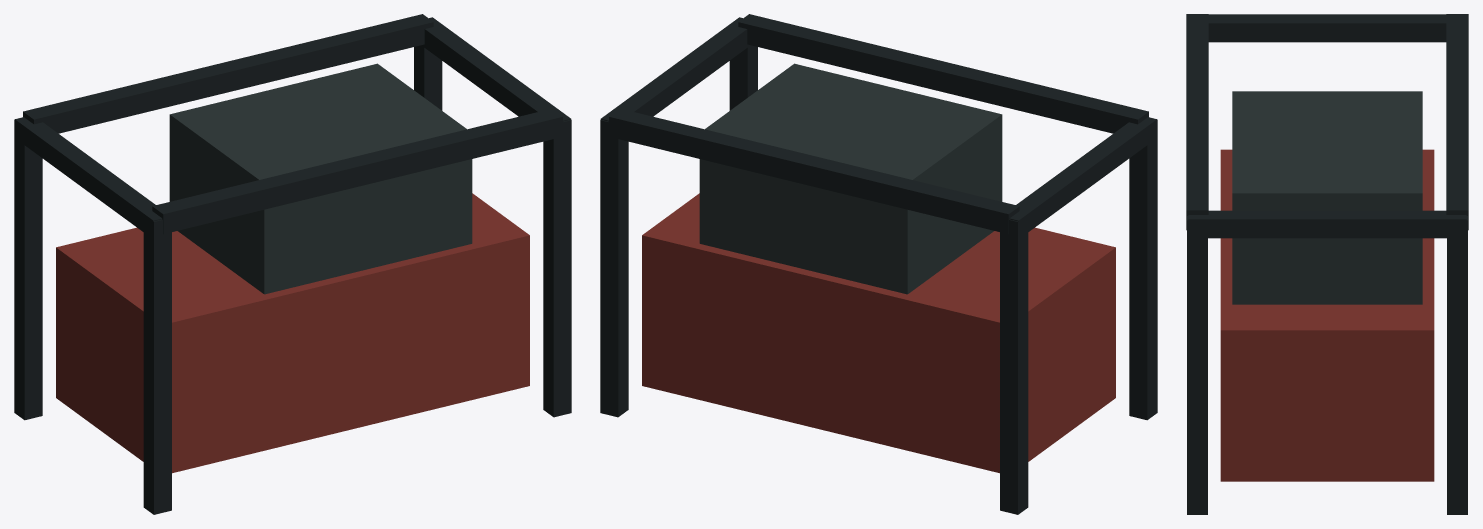
Rendered from generator.glb.
3 renders of one model, left to right at view 1: azimuth 30°, elevation 25°; view 2: azimuth 150°, elevation 25°; view 3: azimuth 270°, elevation 25°, orthographic.
Parts seen in each view (by area): view 1: generator; view 2: generator; view 3: generator.
Boxes of the visible parts, box(x1,y1,x2,y2) form: generator: box(14, 14, 571, 514); generator: box(600, 14, 1157, 514); generator: box(1186, 14, 1468, 514).
Size of the model in its own units: 1.04 by 0.714 by 0.608.
